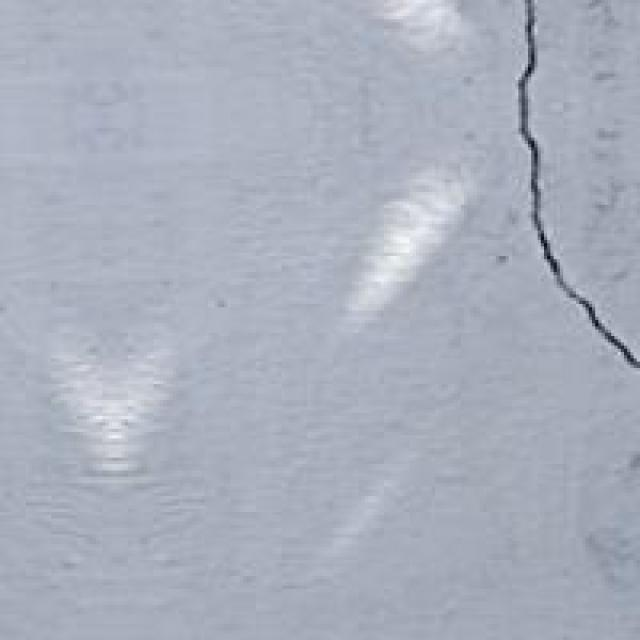Crack: (426, 6, 636, 368)
